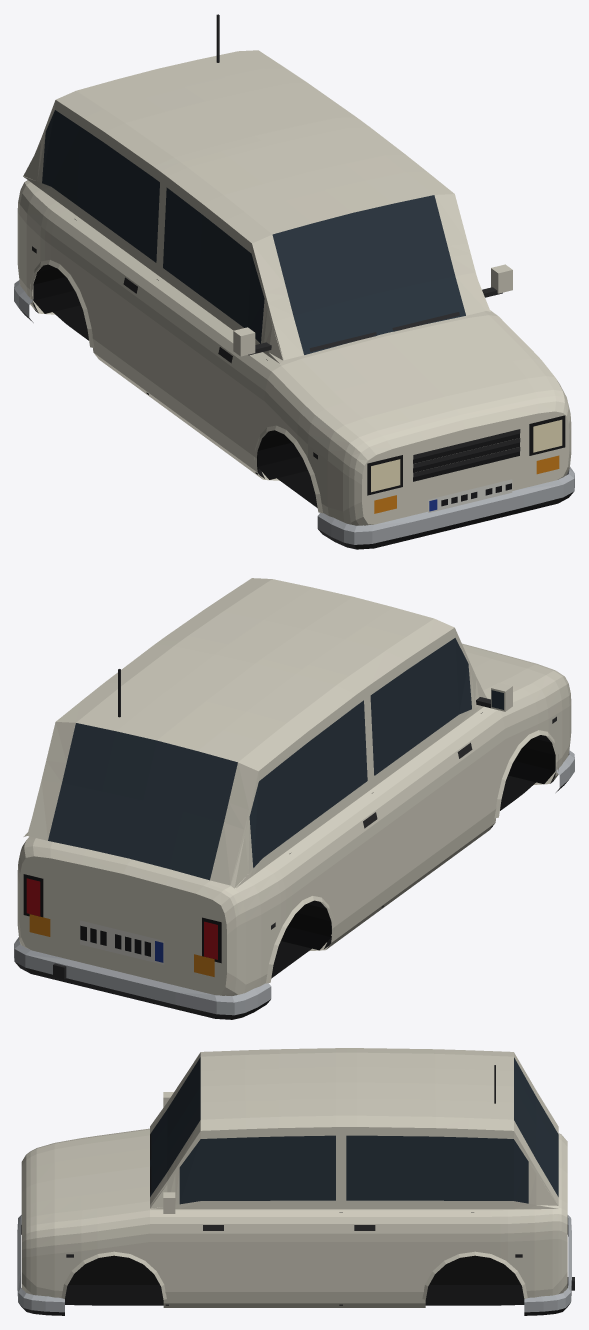
The model's file is renault-4.glb.
3 renders of one model, top to bottom at view 1: azimuth 30°, elevation 25°; view 2: azimuth 150°, elevation 25°; view 3: azimuth 270°, elevation 25°, orthographic. The views are drawn at different scales.
Parts seen in each view (by area): view 1: LOD0, door_FR, door_RR; view 2: LOD0, door_FR, door_RR; view 3: LOD0, door_FL, door_RL.
Part boxes in pixels (x1,y1,x2,y2): LOD0: (14, 14, 574, 549); door_FR: (145, 177, 272, 470); door_RR: (62, 117, 160, 389); LOD0: (14, 578, 574, 1019); door_FR: (370, 627, 494, 902); door_RR: (284, 690, 384, 942); LOD0: (17, 1048, 574, 1315); door_FL: (167, 1127, 339, 1303); door_RL: (343, 1127, 472, 1303).
Size of what is drawn, in the model's own units: 1.68 by 1.66 by 3.76.
